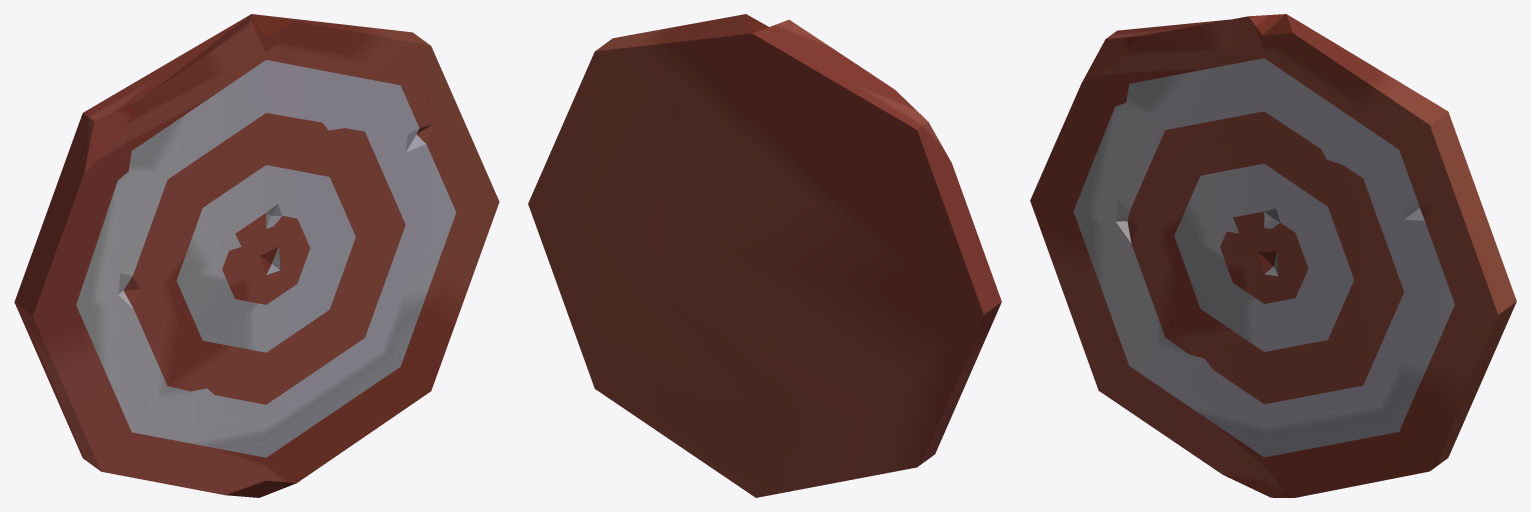
Rendered from bulls-eye.glb.
3 views of the same model, side by side, from view 1: azimuth 30°, elevation 25°; view 2: azimuth 150°, elevation 25°; view 3: azimuth 330°, elevation 25° (orthographic). The views are drawn at different scales.
Parts seen in each view (by area): view 1: SM_Prop_Bulls_Eye_01; view 2: SM_Prop_Bulls_Eye_01; view 3: SM_Prop_Bulls_Eye_01.
Part boxes in pixels (bbox=[...]): SM_Prop_Bulls_Eye_01: bbox=[14, 14, 499, 497]; SM_Prop_Bulls_Eye_01: bbox=[528, 14, 1001, 497]; SM_Prop_Bulls_Eye_01: bbox=[1030, 14, 1516, 497].
Bounding box in the file's own units: 87.34 × 85.95 × 5.99.
1 material, 1 textured.
